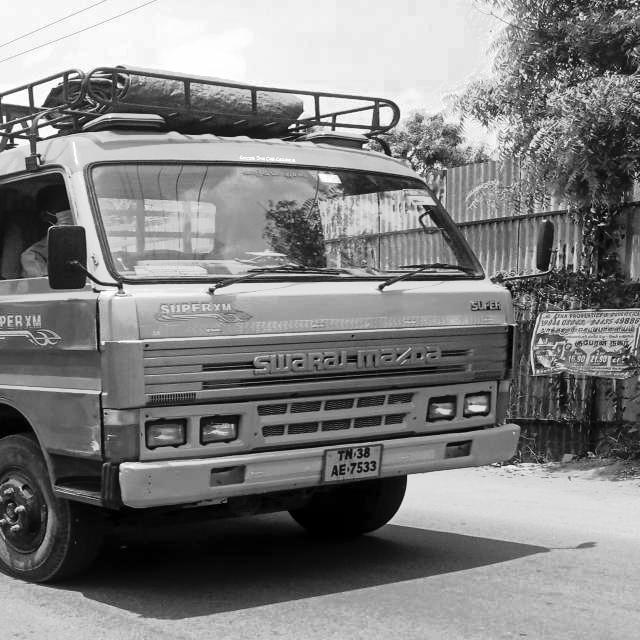HCV: (0, 58, 552, 568)
